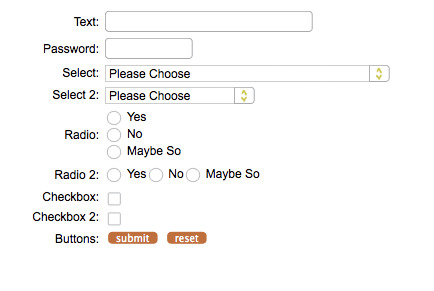_form_: (1, 1, 416, 291)
button: (107, 231, 159, 246), (166, 231, 208, 245)
checkbox: (106, 210, 124, 227), (106, 190, 123, 207)
checkbox_with_label: (32, 209, 125, 229), (43, 189, 125, 208)
field: (103, 64, 391, 82), (103, 10, 314, 34), (104, 86, 256, 105), (104, 37, 194, 60)
field_with_label: (61, 62, 394, 84), (75, 9, 316, 36), (51, 85, 259, 106), (42, 35, 196, 61)
radio: (184, 166, 201, 184), (106, 109, 123, 126), (106, 127, 123, 143), (106, 144, 123, 160), (106, 167, 122, 183), (148, 166, 163, 183)
radio_with_label: (183, 165, 263, 185), (105, 144, 181, 162), (104, 107, 149, 127), (104, 165, 146, 184), (104, 125, 143, 145), (146, 165, 184, 184)
